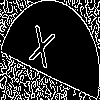X: (25, 24, 56, 79)
